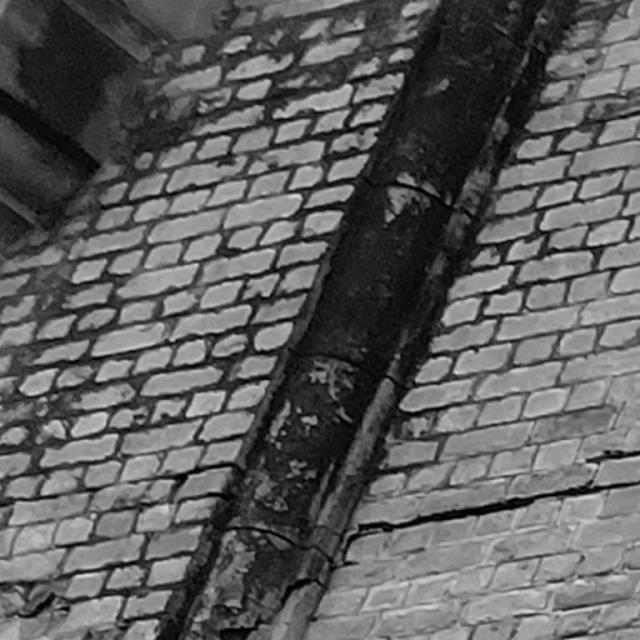crack: (335, 449, 639, 568), (1, 591, 72, 618)
